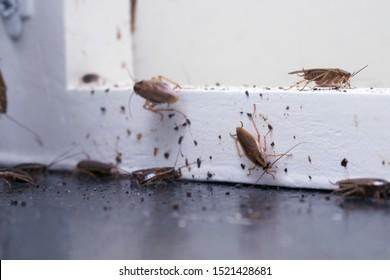cockroach: (233, 123, 279, 177), (130, 77, 180, 106), (292, 67, 353, 90), (335, 176, 390, 200), (131, 164, 183, 186), (76, 158, 120, 181), (0, 166, 37, 188), (12, 162, 50, 179)
